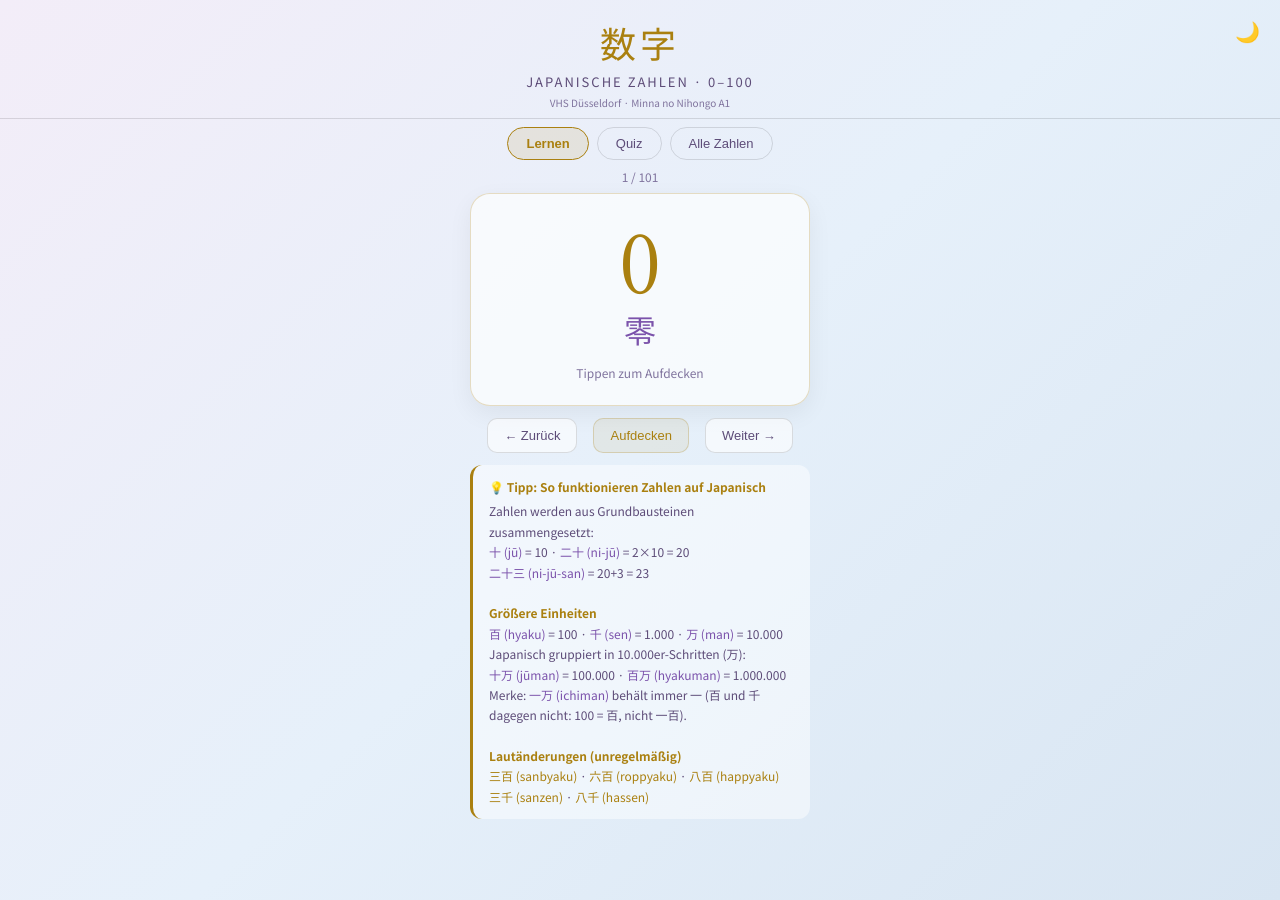
Test: Quiz interaction › counts a wrong answer only in total
What coordinates should you click on to do the following:
click the button "Quiz"
I would click on:
 (629, 144)
Its box is [597,127,662,160].
Wait 3000 ms
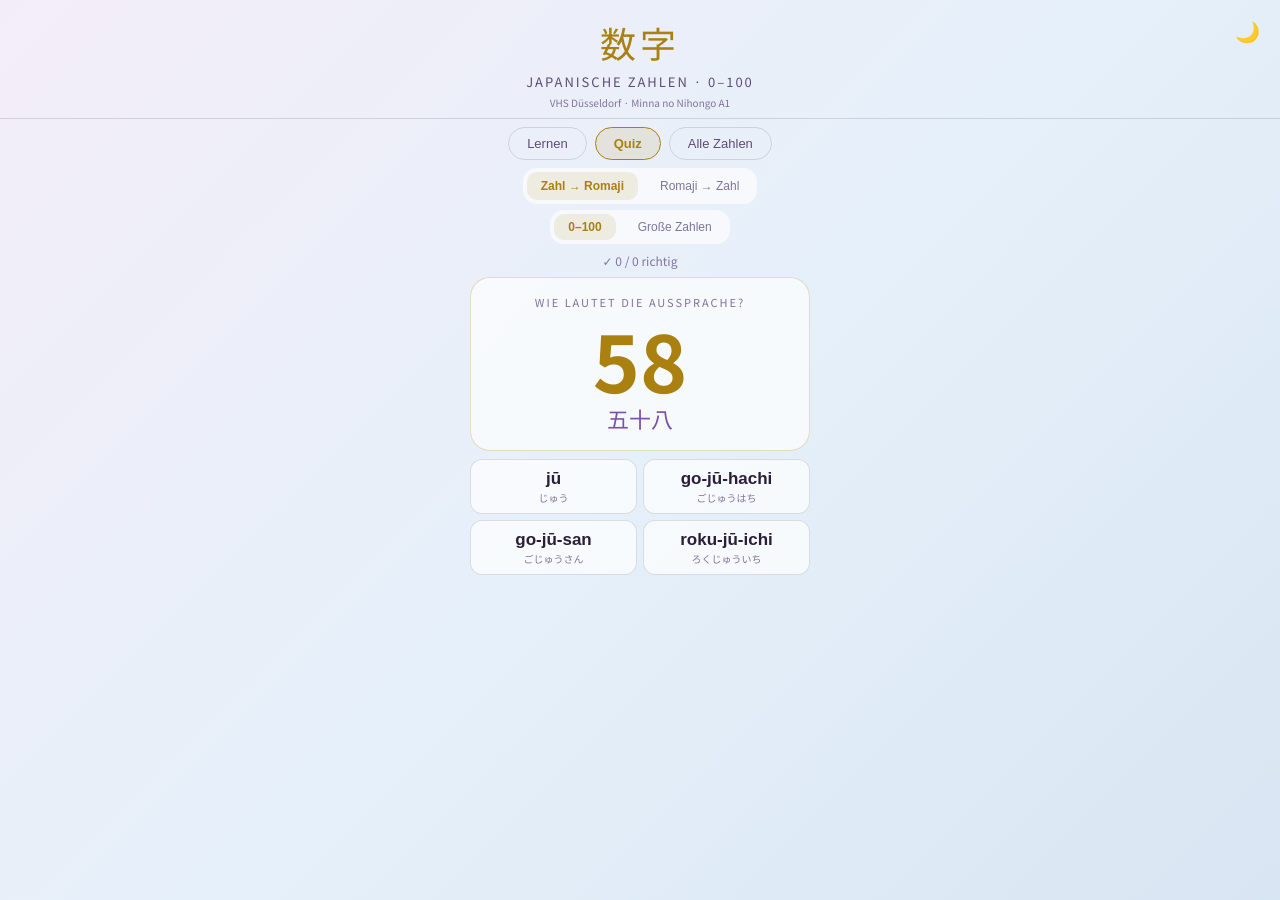
What coordinates should you click on to do the following:
click the button "jū じゅう"
I would click on:
 (554, 487)
Its box is [470,459,637,514].
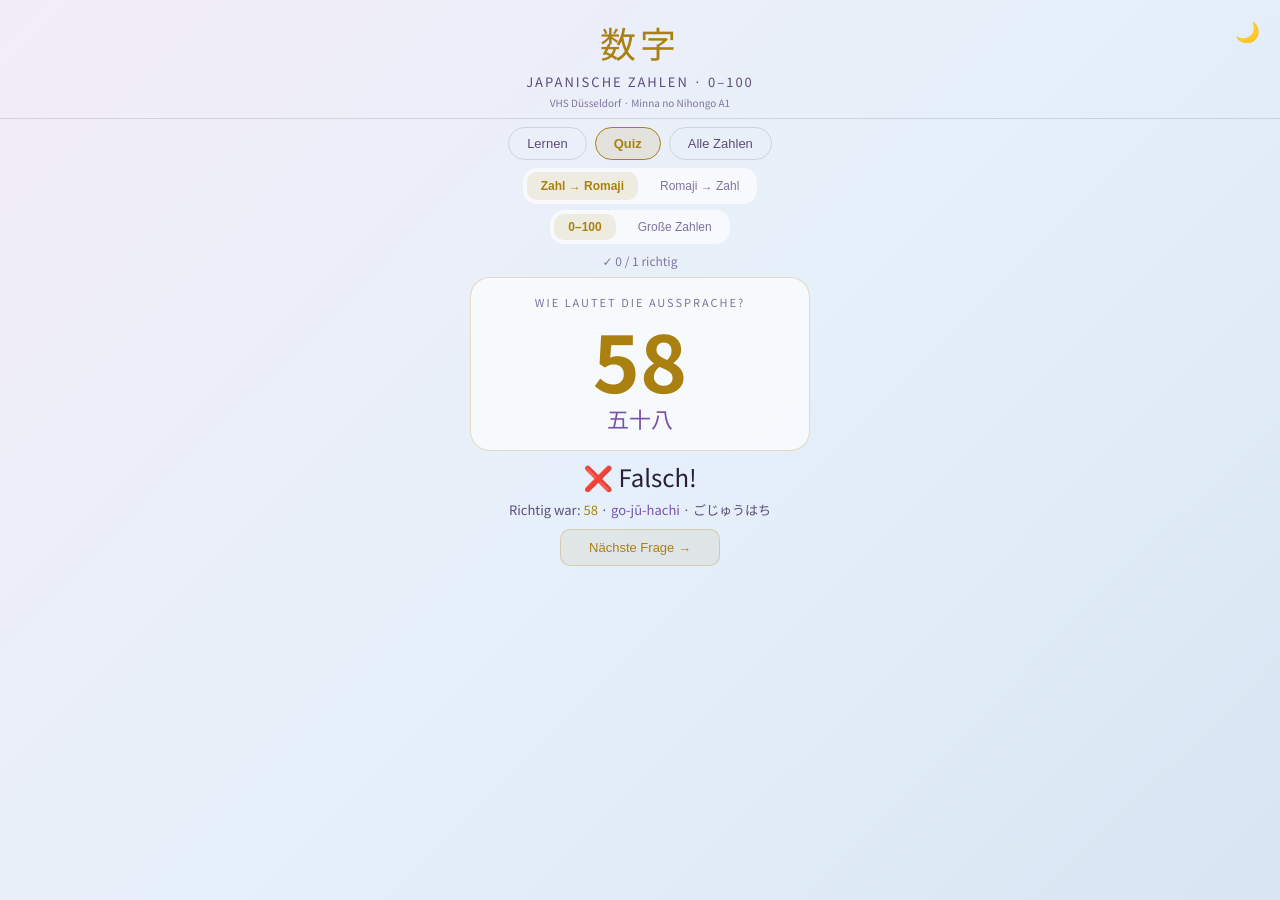
Result: the text "✓ 0 / 1 richtig" is shown at [603,252,677,269]
